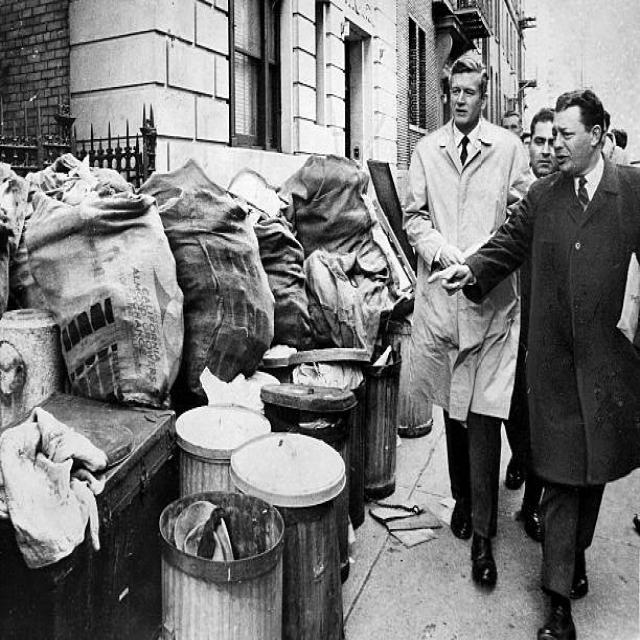metal: (165, 452, 355, 636)
trash: (1, 168, 394, 438)
